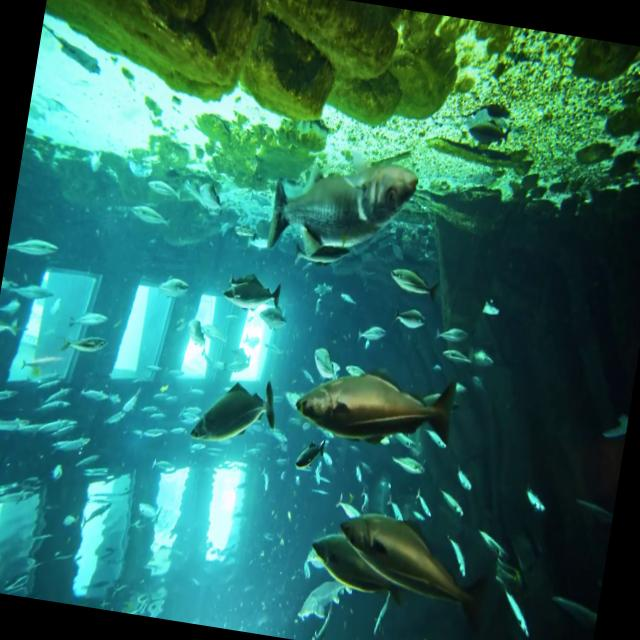fish: (328, 502, 499, 635), (262, 146, 422, 269), (292, 366, 466, 458), (300, 533, 416, 614), (188, 369, 282, 455), (222, 268, 285, 314), (296, 430, 329, 472)
